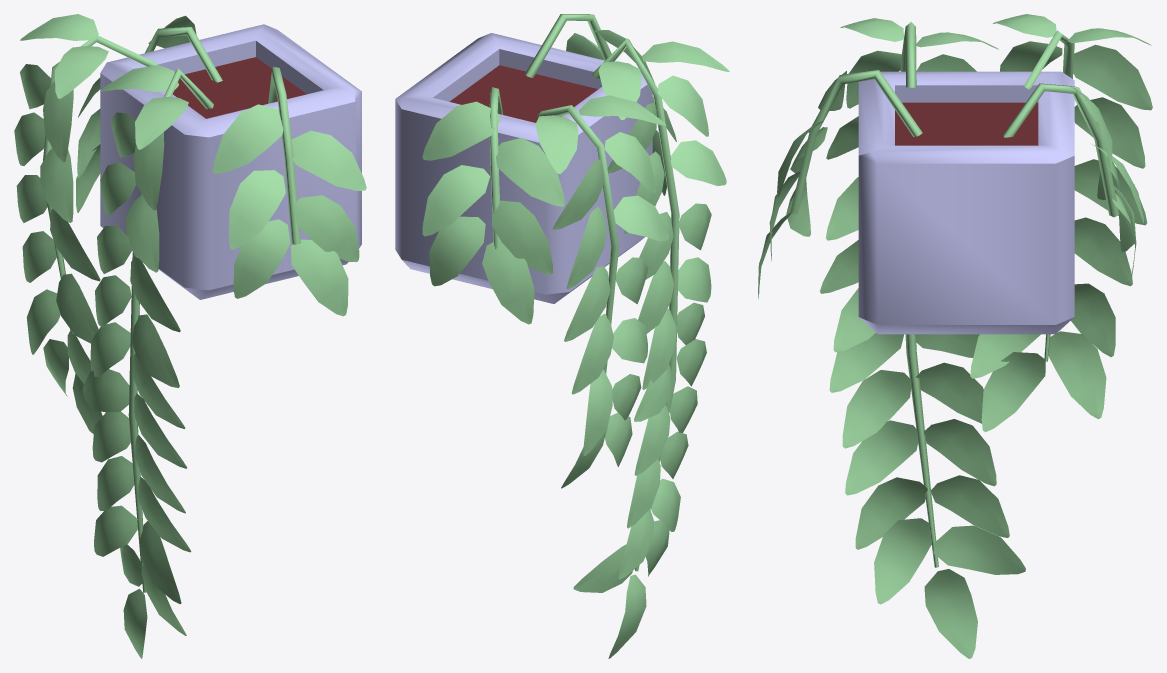
File: Pot2.fbx
3 renders of one model, left to right at view 1: azimuth 30°, elevation 25°; view 2: azimuth 150°, elevation 25°; view 3: azimuth 270°, elevation 25°, orthographic. The views are drawn at different scales.
Parts seen in each view (by area): view 1: BézierCurve, Pot2, Plane.011, Plane.018, Plane.006; view 2: BézierCurve, Pot2, Plane.011, Plane.006, Plane.018; view 3: Pot2, BézierCurve, Plane.011, Plane.018, Plane.006.
Boxes of the visible parts, box(x1,y1,x2,y2) form: BézierCurve: box(82, 65, 213, 658); Pot2: box(100, 24, 361, 299); Plane.011: box(14, 14, 157, 433); Plane.018: box(212, 66, 366, 316); Plane.006: box(76, 15, 222, 212); BézierCurve: box(573, 38, 729, 658); Pot2: box(395, 33, 652, 303); Plane.011: box(535, 95, 668, 488); Plane.006: box(422, 87, 565, 324); Plane.018: box(524, 14, 676, 195); Pot2: box(858, 71, 1074, 334); BézierCurve: box(820, 18, 1025, 658); Plane.011: box(970, 14, 1152, 431); Plane.018: box(758, 70, 922, 299); Plane.006: box(1003, 83, 1143, 276).
Bounding box in the file's own units: 29.02 × 37.67 × 67.57.
